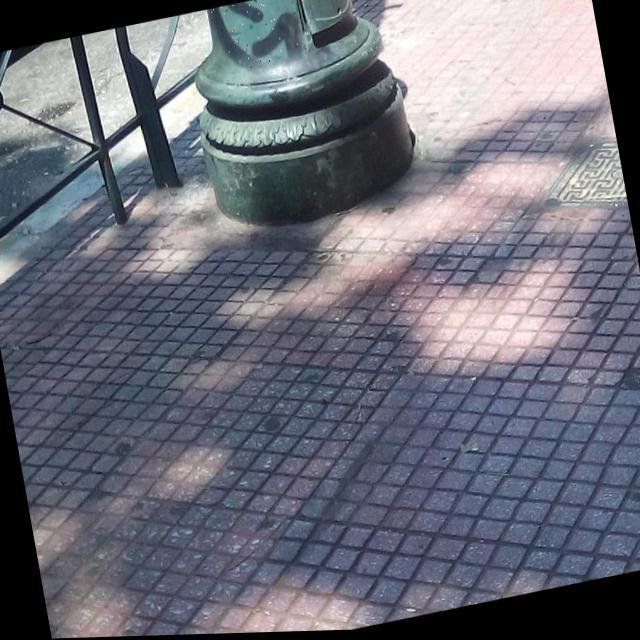-: (206, 0, 306, 77)
